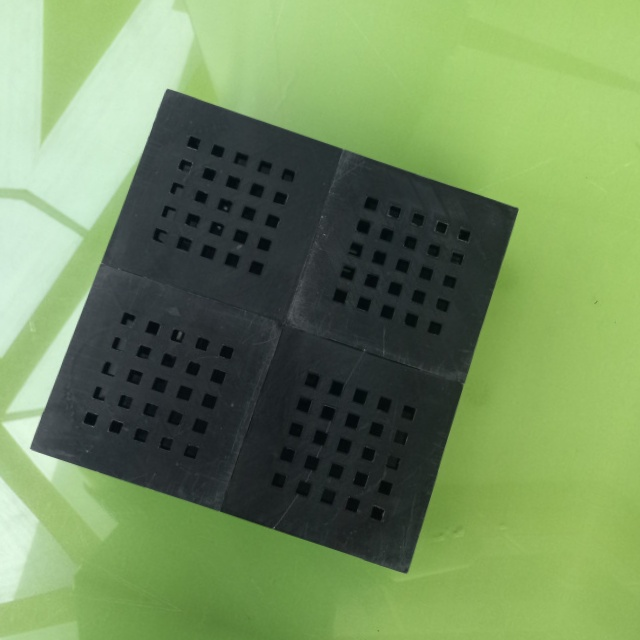pallet: (19, 74, 523, 585)
